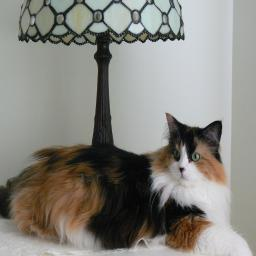catnose: (178, 164, 187, 175)
